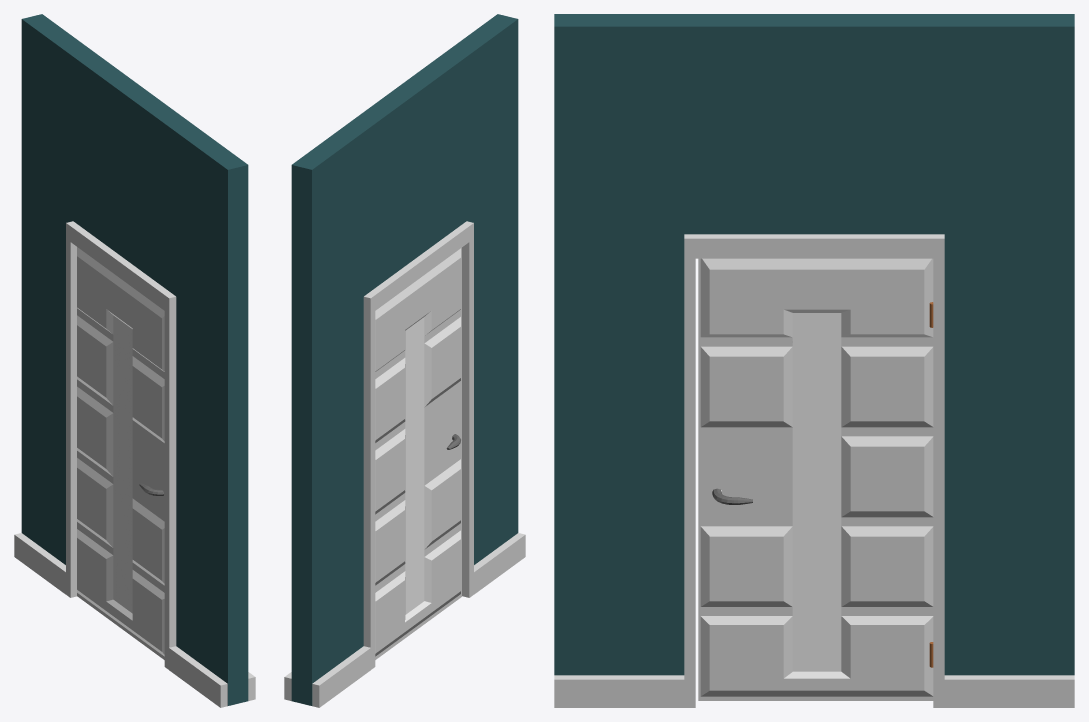
The model's file is Wall_office_door.glb.
3 renders of one model, left to right at view 1: azimuth 30°, elevation 25°; view 2: azimuth 150°, elevation 25°; view 3: azimuth 270°, elevation 25°, orthographic. The views are drawn at different scales.
Parts seen in each view (by area): view 1: Wall_Door, Door, DoorFrame, Door_inner_glas, Baseboard.001; view 2: Wall_Door, Door, DoorFrame, Door_inner_glas, Baseboard.001; view 3: Wall_Door, Door, Door_inner_glas, DoorFrame, Baseboard.001.
Part boxes in pixels (box(x1,y1,x2,y2)): Wall_Door: box(21, 14, 248, 705); Door: box(77, 247, 164, 659); DoorFrame: box(66, 221, 176, 669); Door_inner_glas: box(113, 315, 132, 613); Baseboard.001: box(14, 533, 255, 707); Wall_Door: box(291, 14, 518, 705); Door: box(375, 248, 461, 659); DoorFrame: box(363, 221, 473, 669); Door_inner_glas: box(405, 317, 424, 614); Baseboard.001: box(284, 533, 525, 707); Wall_Door: box(554, 14, 1074, 675); Door: box(698, 258, 933, 700); Door_inner_glas: box(792, 313, 841, 671); DoorFrame: box(684, 234, 944, 707); Baseboard.001: box(554, 675, 1074, 707).
Size of the model in its own units: 0.2656 by 2.87 by 2.
